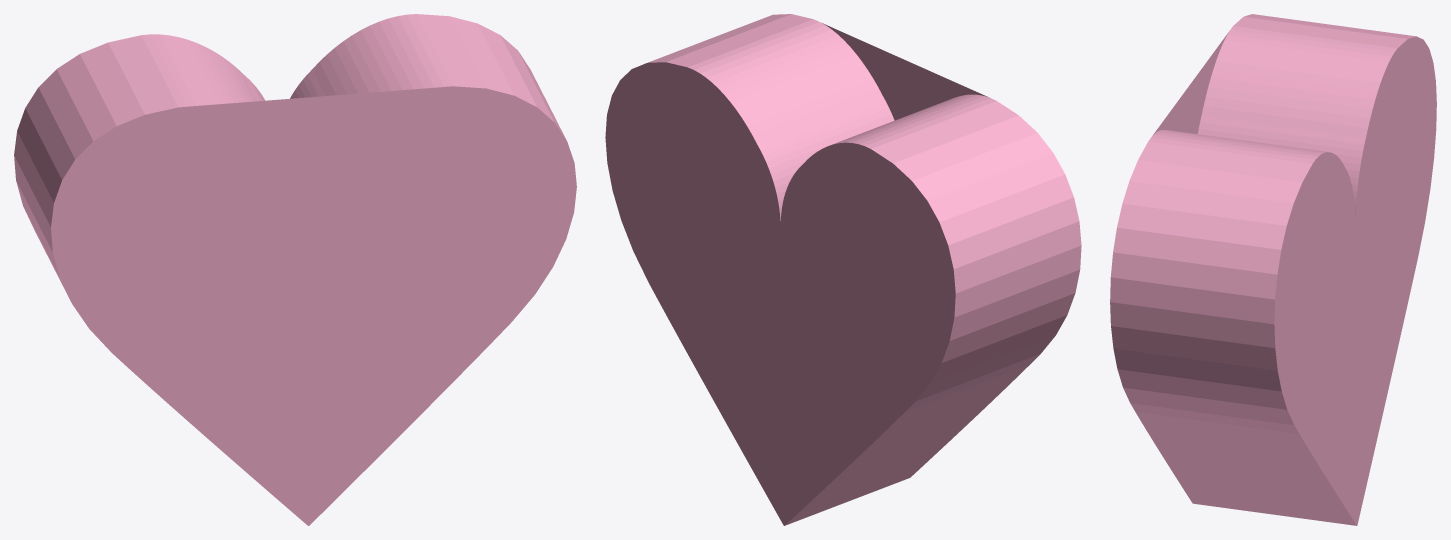
The model's file is 021_Candy_Heart_02.fbx.
3 renders of one model, left to right at view 1: azimuth 30°, elevation 25°; view 2: azimuth 150°, elevation 25°; view 3: azimuth 270°, elevation 25°, orthographic. The views are drawn at different scales.
Visible parts, largest first — view 1: heart.001; view 2: heart.001; view 3: heart.001.
Boxes of the visible parts, x1=… form: heart.001: x1=14, y1=14, x2=576, y2=525; heart.001: x1=605, y1=14, x2=1081, y2=525; heart.001: x1=1110, y1=14, x2=1436, y2=525.
Size of the model in its own units: 143 by 120 by 83.84.
